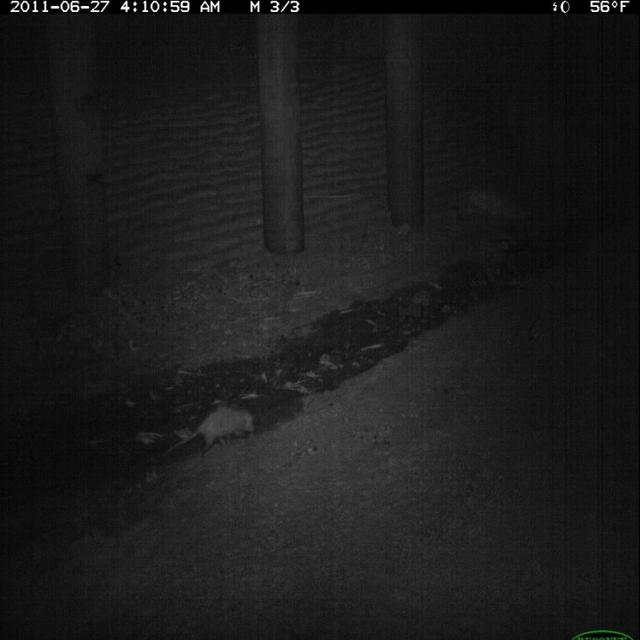opossum: (162, 399, 259, 464)
